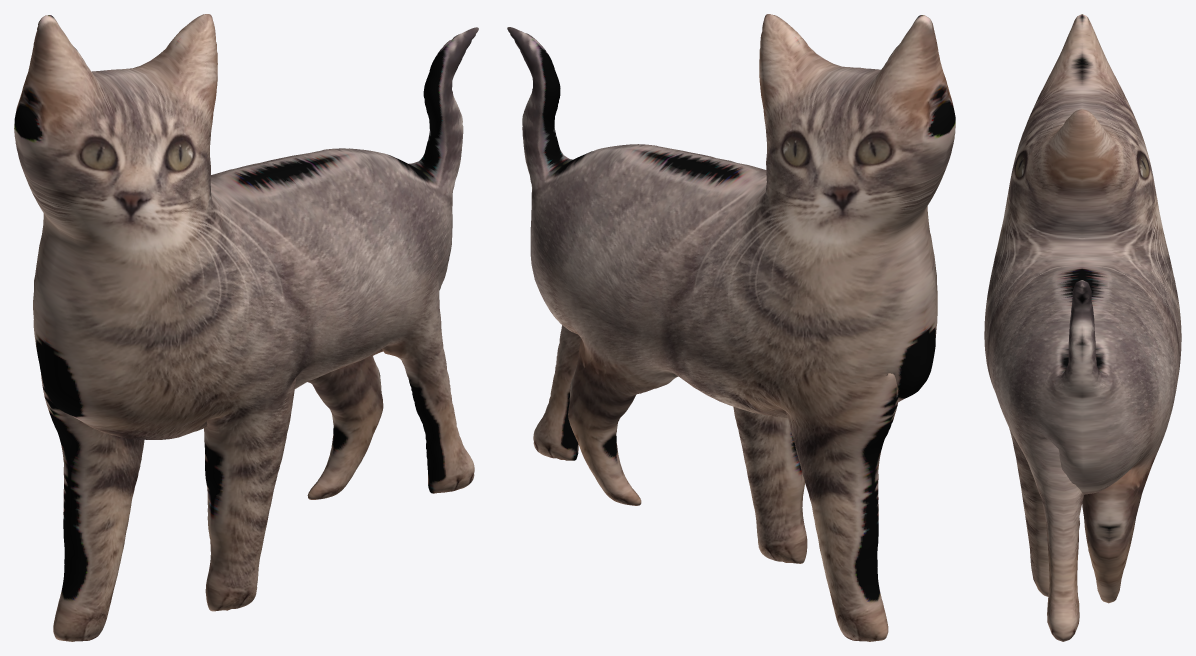
Rendered from asset.glb.
3 renders of one model, left to right at view 1: azimuth 30°, elevation 25°; view 2: azimuth 150°, elevation 25°; view 3: azimuth 270°, elevation 25°, orthographic. The views are drawn at different scales.
Size of the model in its own units: 5.1 by 6.91 by 2.3.
Materials: 1 (1 with a texture image).
